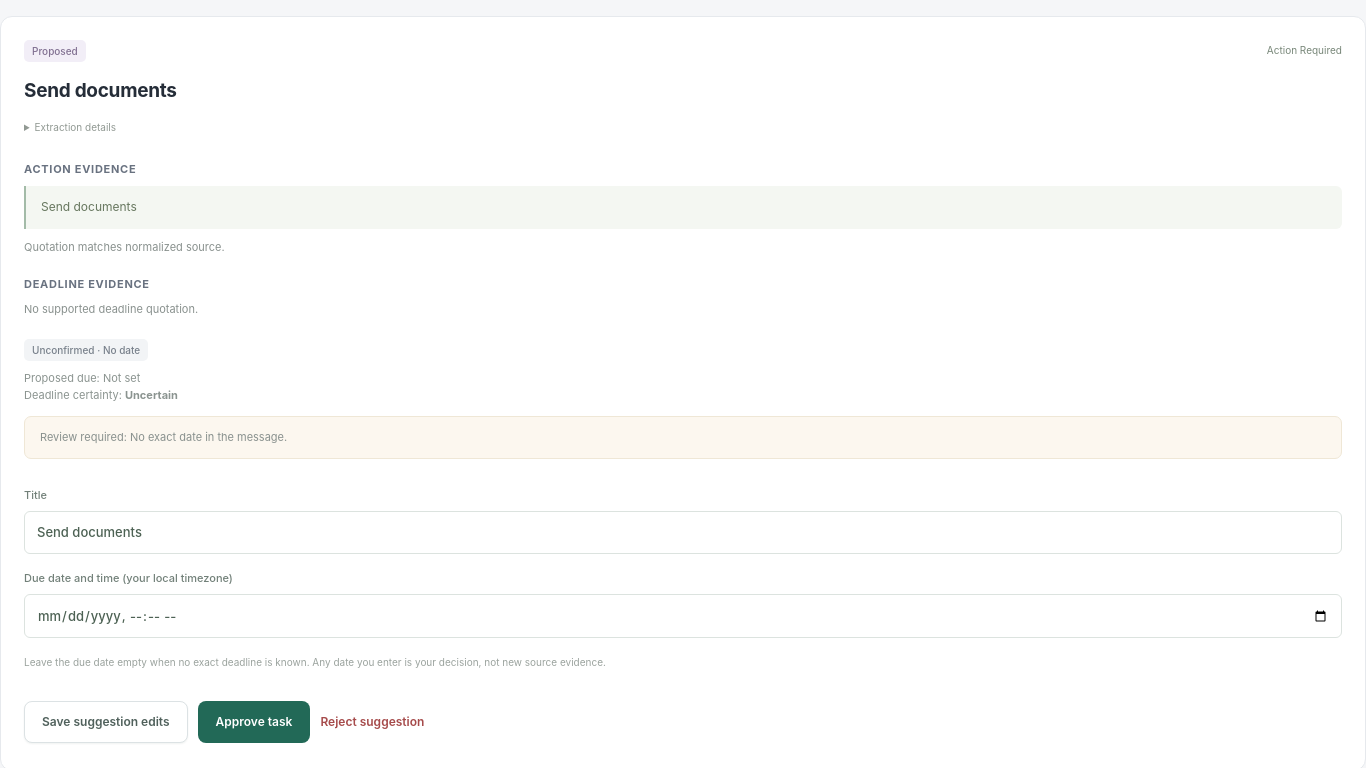
Test: P0 browser interactions › sends the observed version for Save suggestion edits and explains conflicts
The width and height of the screenshot is (1366, 768).
Click the button "Save suggestion edits" at x=106, y=722, box [24,701,188,743]
(page scrolled)
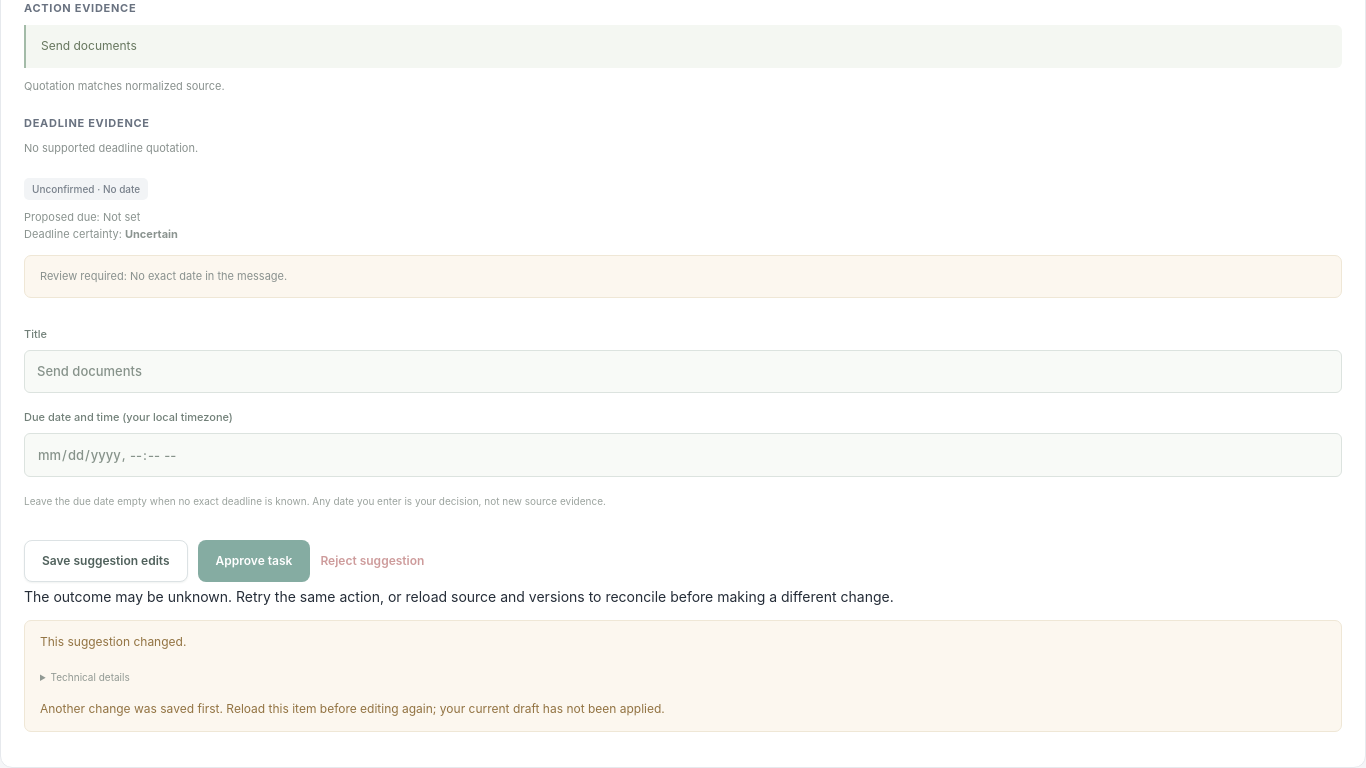
Result: the text "Another change was saved first" is shown at [40,701,665,716]
